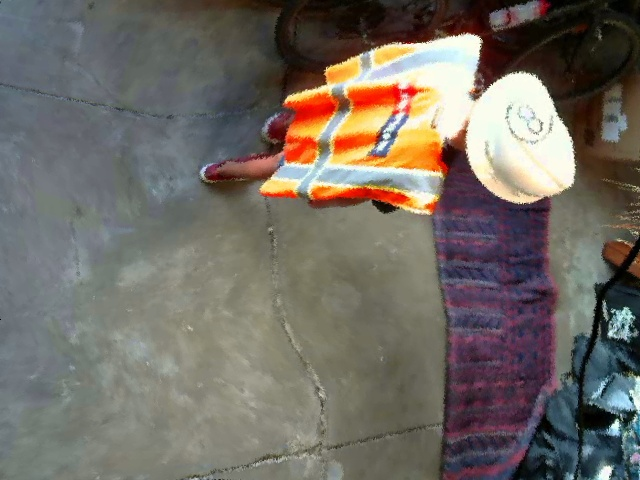eight: (504, 94, 557, 150)
